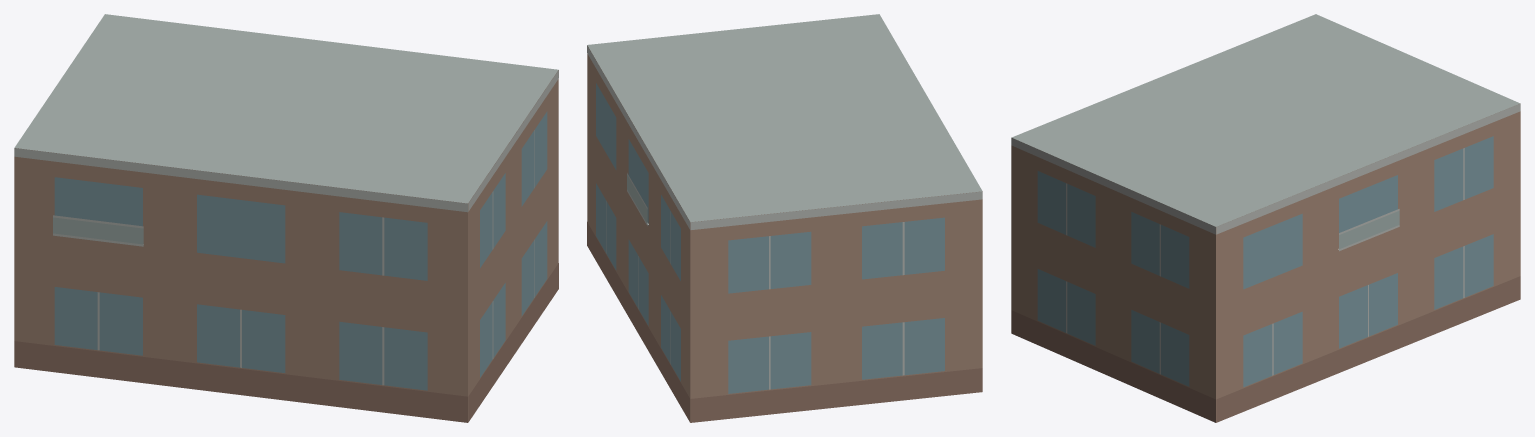
File: survey-upis-32682235.glb
3 renders of one model, left to right at view 1: azimuth 30°, elevation 25°; view 2: azimuth 150°, elevation 25°; view 3: azimuth 270°, elevation 25°, orthographic. The views are drawn at different scales.
Parts seen in each view (by area): view 1: survey-upis-32682235.tmp; view 2: survey-upis-32682235.tmp; view 3: survey-upis-32682235.tmp.
Part boxes in pixels (box(x1,y1,x2,y2)): survey-upis-32682235.tmp: box(14, 14, 558, 422); survey-upis-32682235.tmp: box(587, 14, 982, 422); survey-upis-32682235.tmp: box(1011, 14, 1520, 422).
Bounding box in the file's own units: 14.22 × 6.1 × 14.37.
